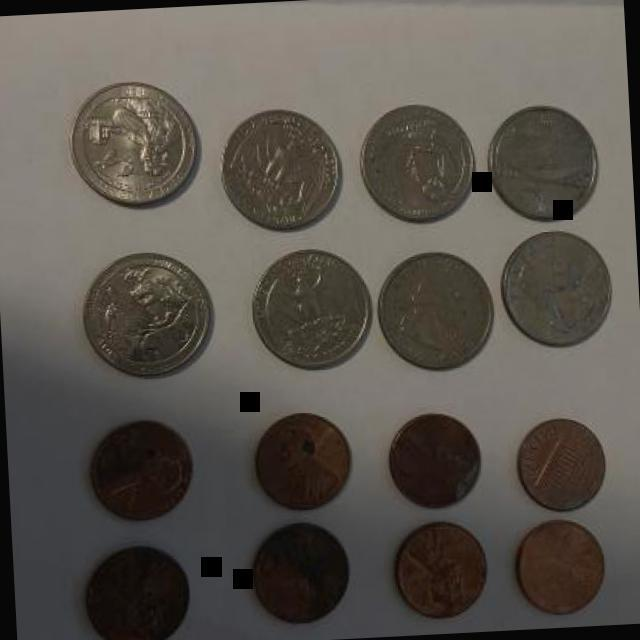Penny: (80, 414, 200, 530), (244, 520, 355, 630), (78, 539, 195, 640), (247, 409, 356, 516), (378, 410, 489, 515), (390, 518, 492, 626), (508, 514, 609, 619), (511, 415, 610, 514)
Quarter: (75, 245, 220, 388), (63, 76, 204, 216), (239, 244, 377, 374), (213, 107, 349, 238), (354, 100, 480, 228), (484, 100, 606, 227), (375, 248, 495, 375), (498, 228, 617, 350)
